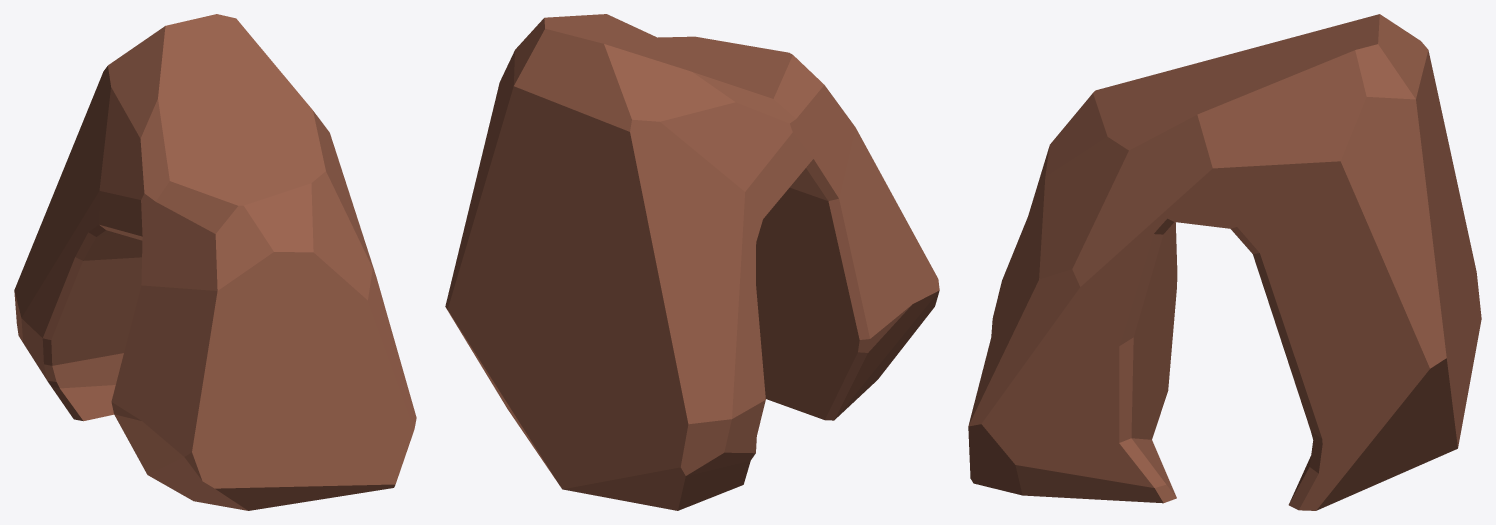
Rendered from Mesh_Hikari_CaveEntrance.fbx.
The picture shows the model from 3 angles, left to right: view 1: azimuth 30°, elevation 25°; view 2: azimuth 150°, elevation 25°; view 3: azimuth 270°, elevation 25°; orthographic projection. The views are drawn at different scales.
Parts seen in each view (by area): view 1: Mesh_Hikari_CaveEntrance; view 2: Mesh_Hikari_CaveEntrance; view 3: Mesh_Hikari_CaveEntrance.
Boxes of the visible parts, x1,y1,x2,y2 form: Mesh_Hikari_CaveEntrance: [14, 14, 416, 510]; Mesh_Hikari_CaveEntrance: [445, 14, 939, 510]; Mesh_Hikari_CaveEntrance: [968, 14, 1481, 510].
Size of the model in its own units: 12.45 by 16.62 by 17.71.
